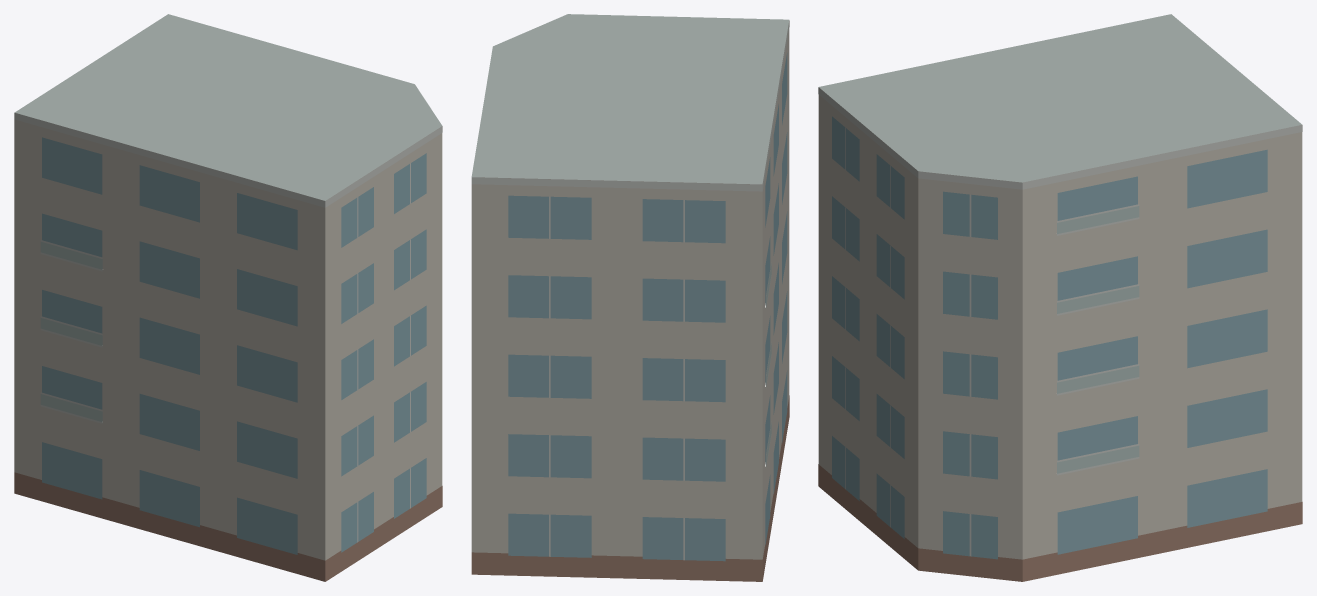
The model's file is survey-upis-32839251.glb.
The picture shows the model from 3 angles, left to right: view 1: azimuth 30°, elevation 25°; view 2: azimuth 150°, elevation 25°; view 3: azimuth 270°, elevation 25°; orthographic projection. The views are drawn at different scales.
Parts seen in each view (by area): view 1: survey-upis-32839251.tmp; view 2: survey-upis-32839251.tmp; view 3: survey-upis-32839251.tmp.
Boxes of the visible parts, x1,y1,x2,y2 form: survey-upis-32839251.tmp: [14, 14, 442, 581]; survey-upis-32839251.tmp: [471, 14, 789, 581]; survey-upis-32839251.tmp: [818, 14, 1302, 581].
Bounding box in the file's own units: 12.32 × 13.6 × 14.95.
